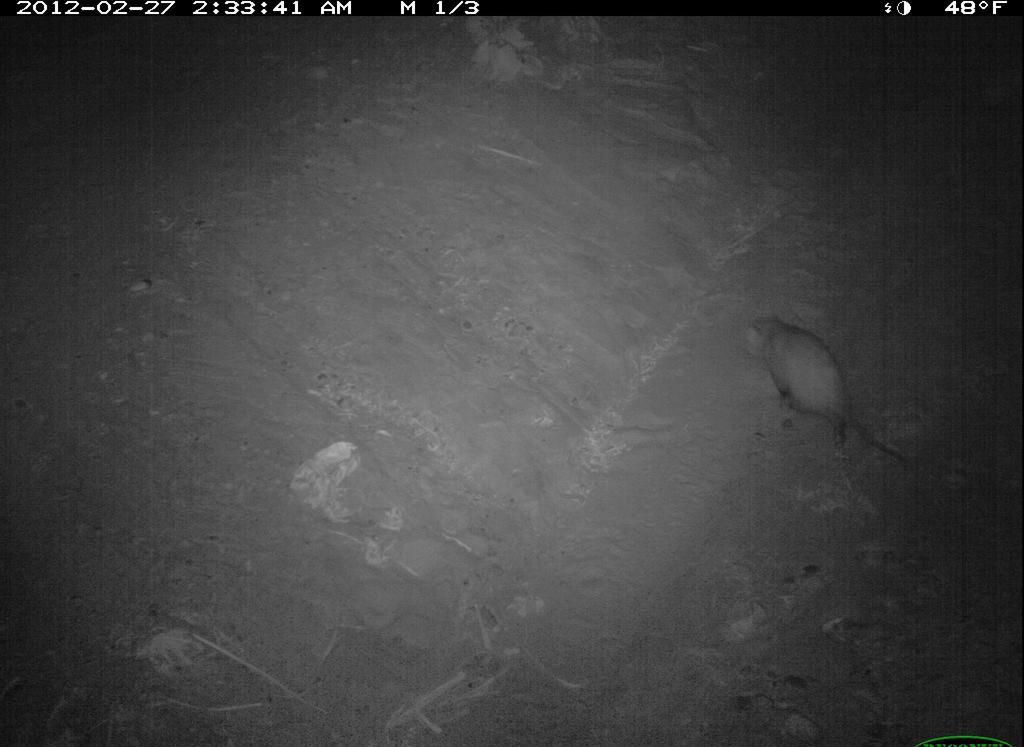opossum: (739, 310, 918, 477)
